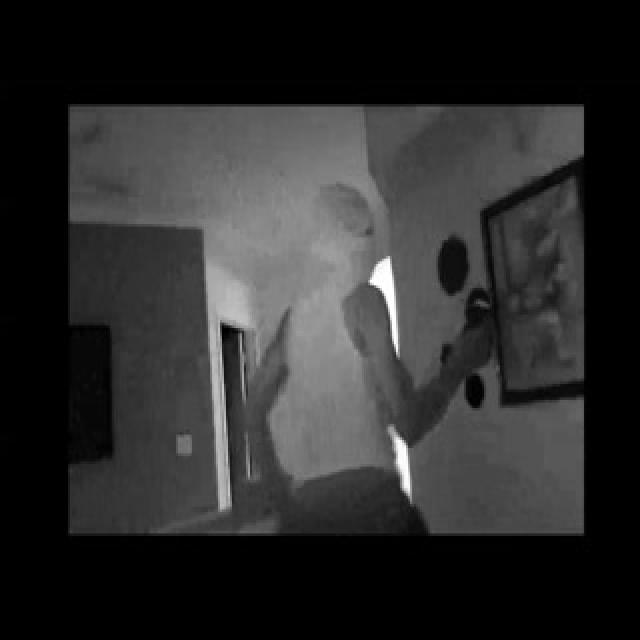thief: (284, 167, 392, 332)
